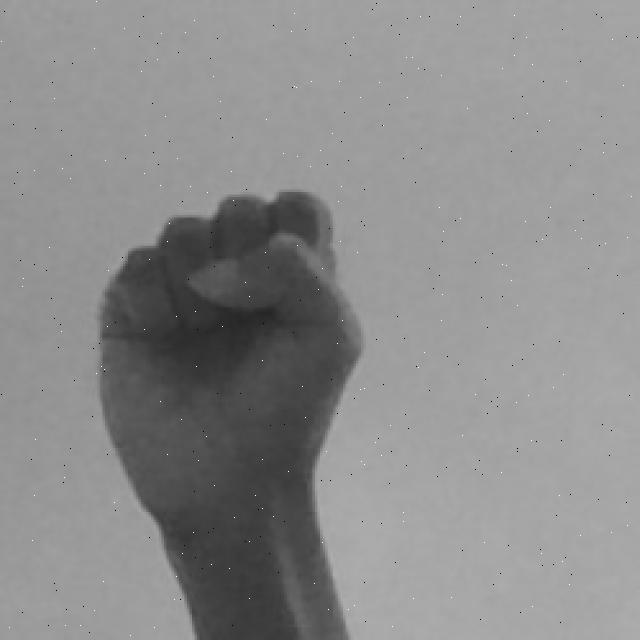S: (91, 186, 372, 640)
